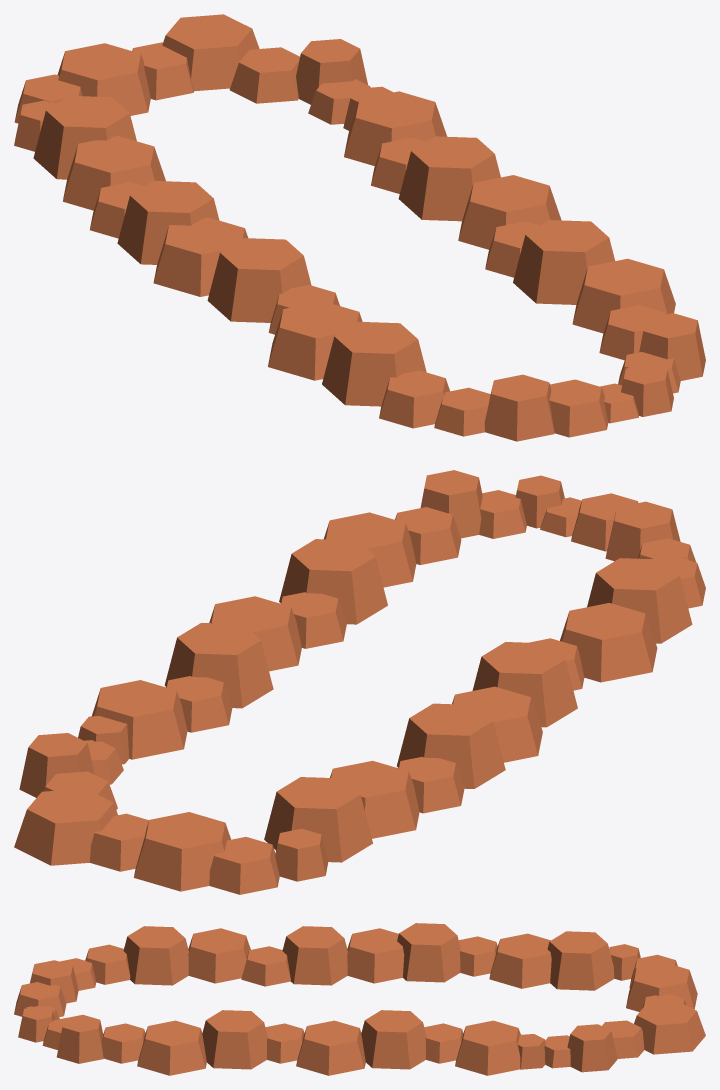
The model's file is graveBorder.dae.
The picture shows the model from 3 angles, top to bottom: view 1: azimuth 30°, elevation 25°; view 2: azimuth 150°, elevation 25°; view 3: azimuth 270°, elevation 25°; orthographic projection. The views are drawn at different scales.
Visible parts, largest first — view 1: graveBorder; view 2: graveBorder; view 3: graveBorder.
Boxes of the visible parts, x1,y1,x2,y2 form: graveBorder: [14, 14, 705, 441]; graveBorder: [14, 470, 705, 894]; graveBorder: [14, 923, 705, 1075].
Bounding box in the file's own units: 0.5243 × 0.0655 × 1.22.
